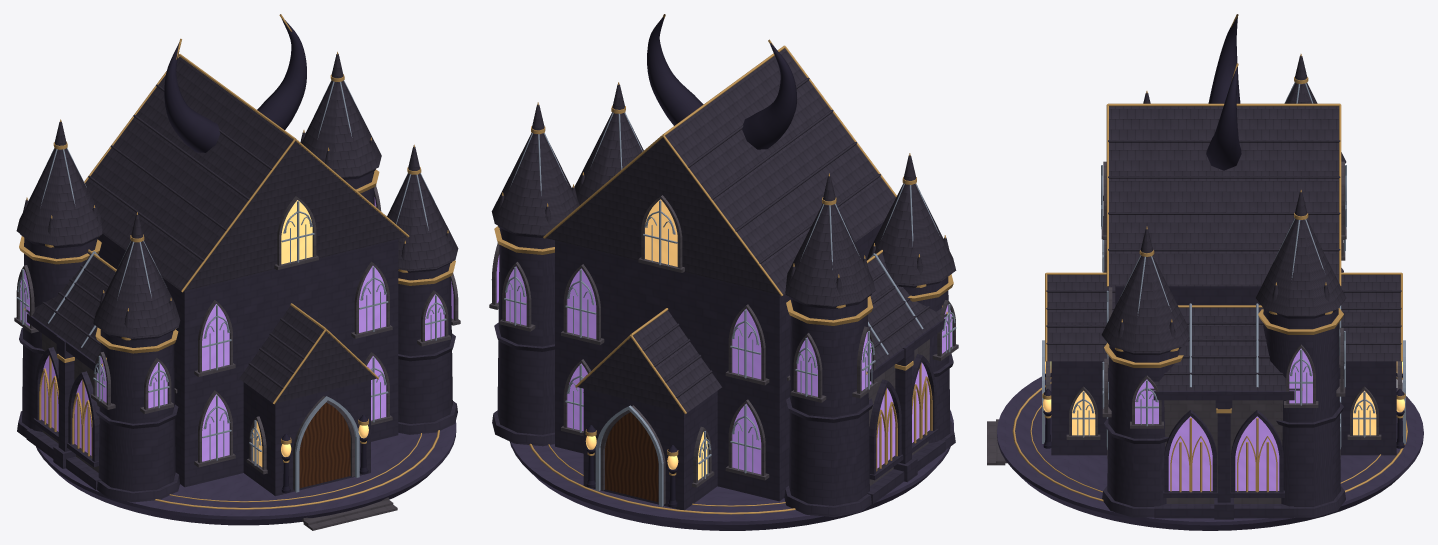
Rendered from ashgrave-mannor.glb.
3 renders of one model, left to right at view 1: azimuth 30°, elevation 25°; view 2: azimuth 150°, elevation 25°; view 3: azimuth 270°, elevation 25°, orthographic. The views are drawn at different scales.
Size of the model in its own units: 14.68 by 15.39 by 15.01.
Materials: 10 (10 with a texture image).
